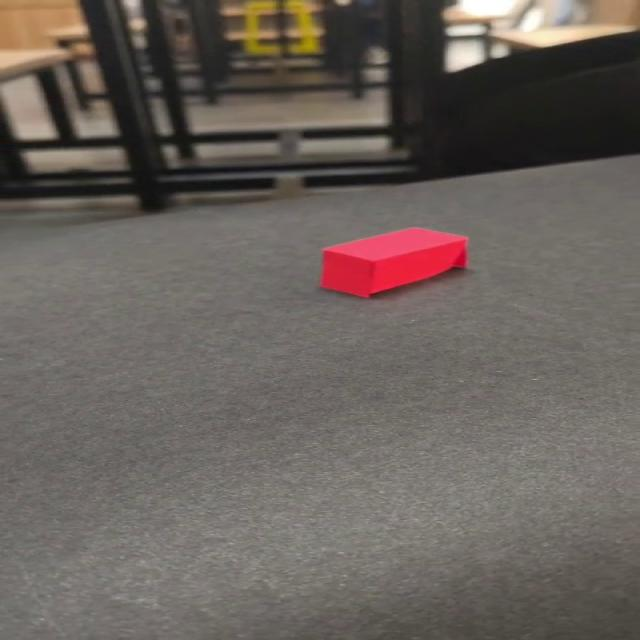red block: (317, 226, 468, 298)
